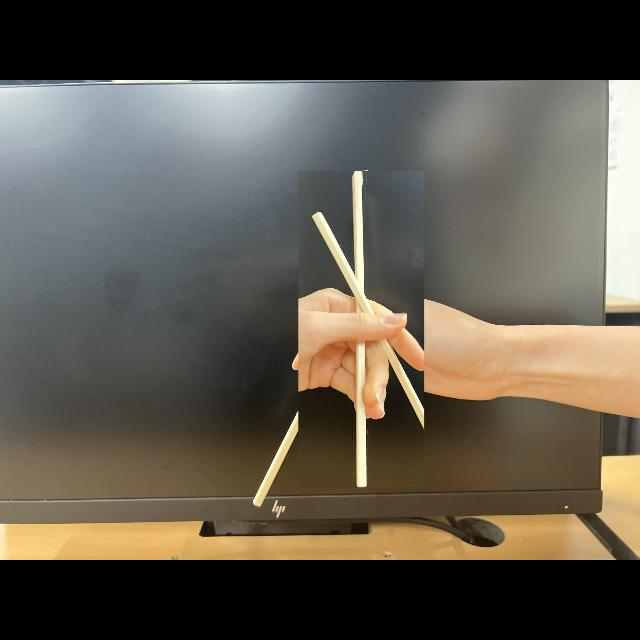stick: (298, 171, 424, 487)
